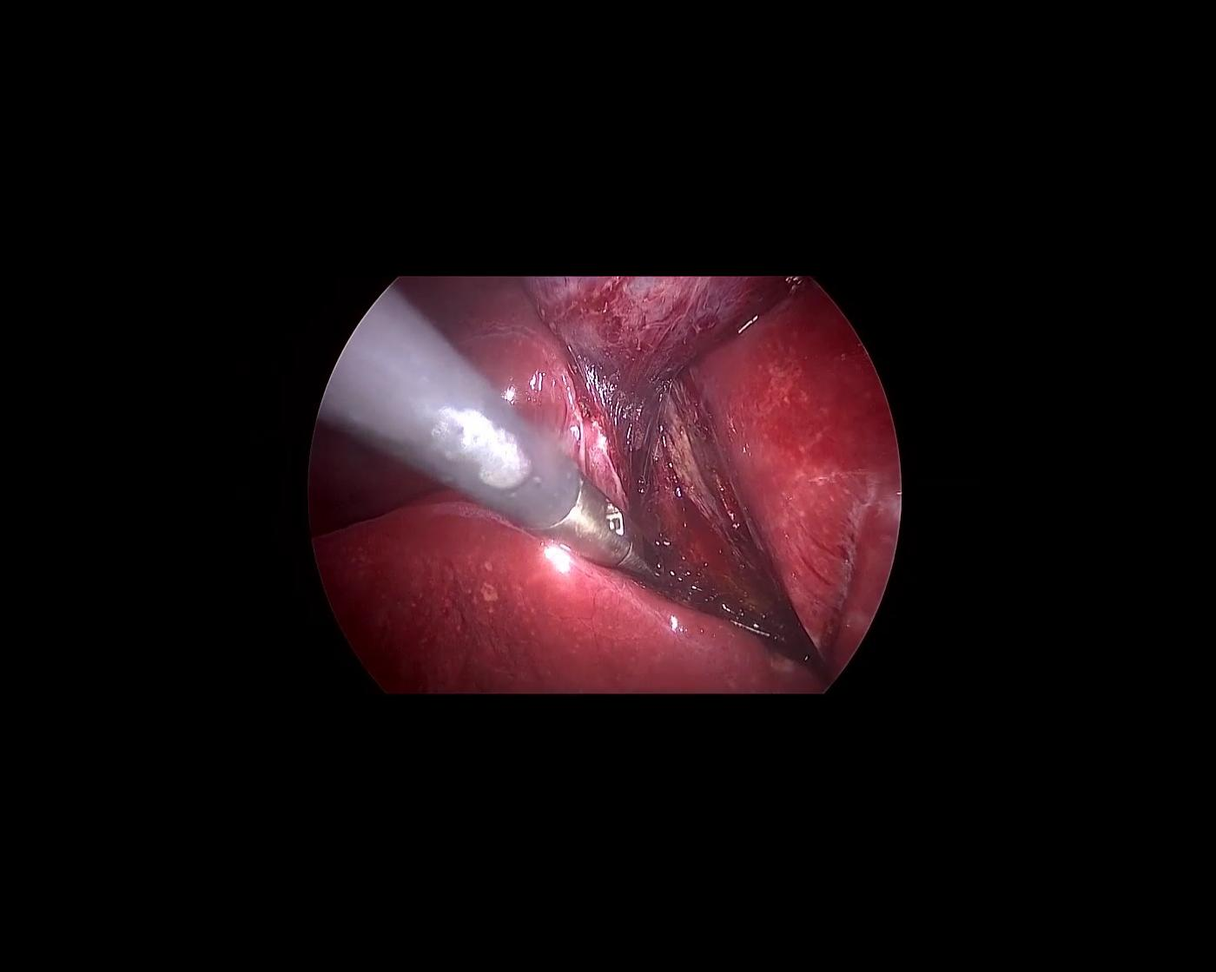Forceps: (288, 282, 677, 676)
Gallbladder: (524, 277, 809, 364)
Liver: (650, 281, 999, 675), (311, 502, 824, 700), (250, 241, 592, 536)
